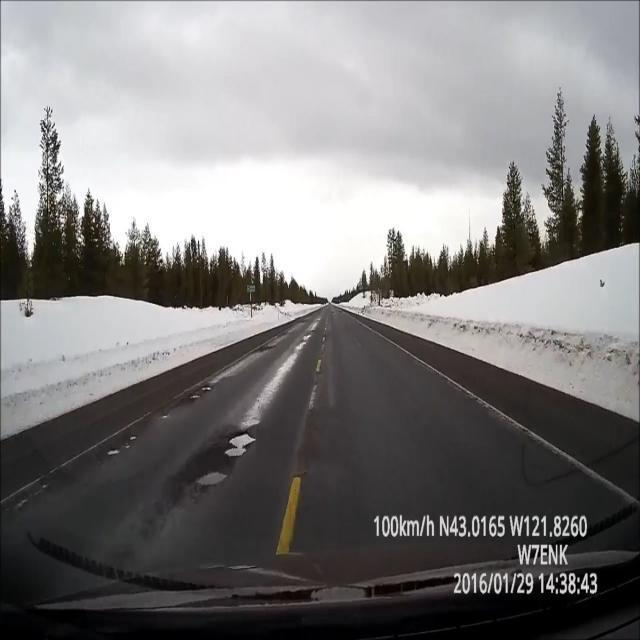pothole: (192, 417, 262, 508)
